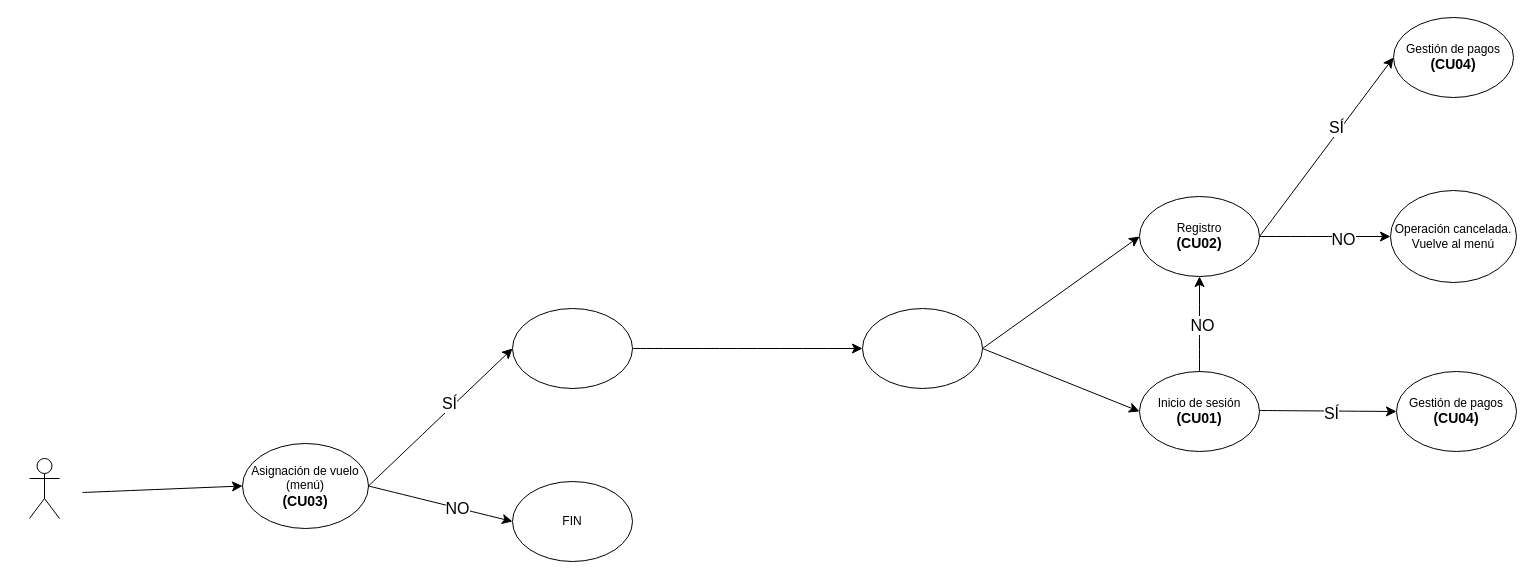
The diagram is 1534 pixels wide and 579 high, and some of its shapes have lost their labels. Here are the shapes that lost their labels. From the top down, the centre of each, then its label:
At [572,348]: "Extras (CU05)".
At [922,348]: "Hoteles y alquileres de coches (CU06)".
At [44,488]: "Usuario".
